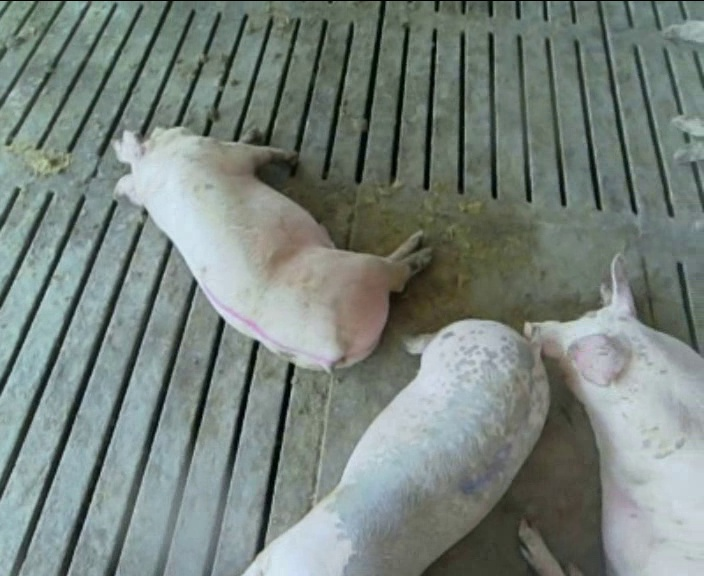pig: (114, 125, 430, 370), (245, 320, 548, 574)
